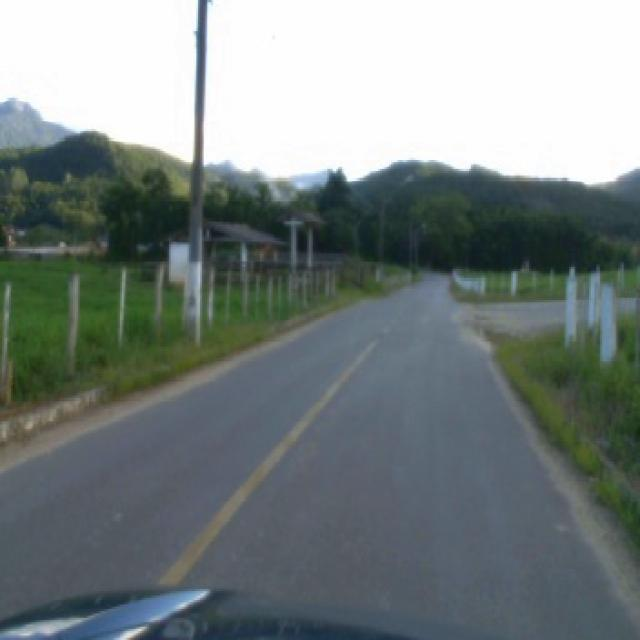Poth-hole: (471, 320, 513, 342)
